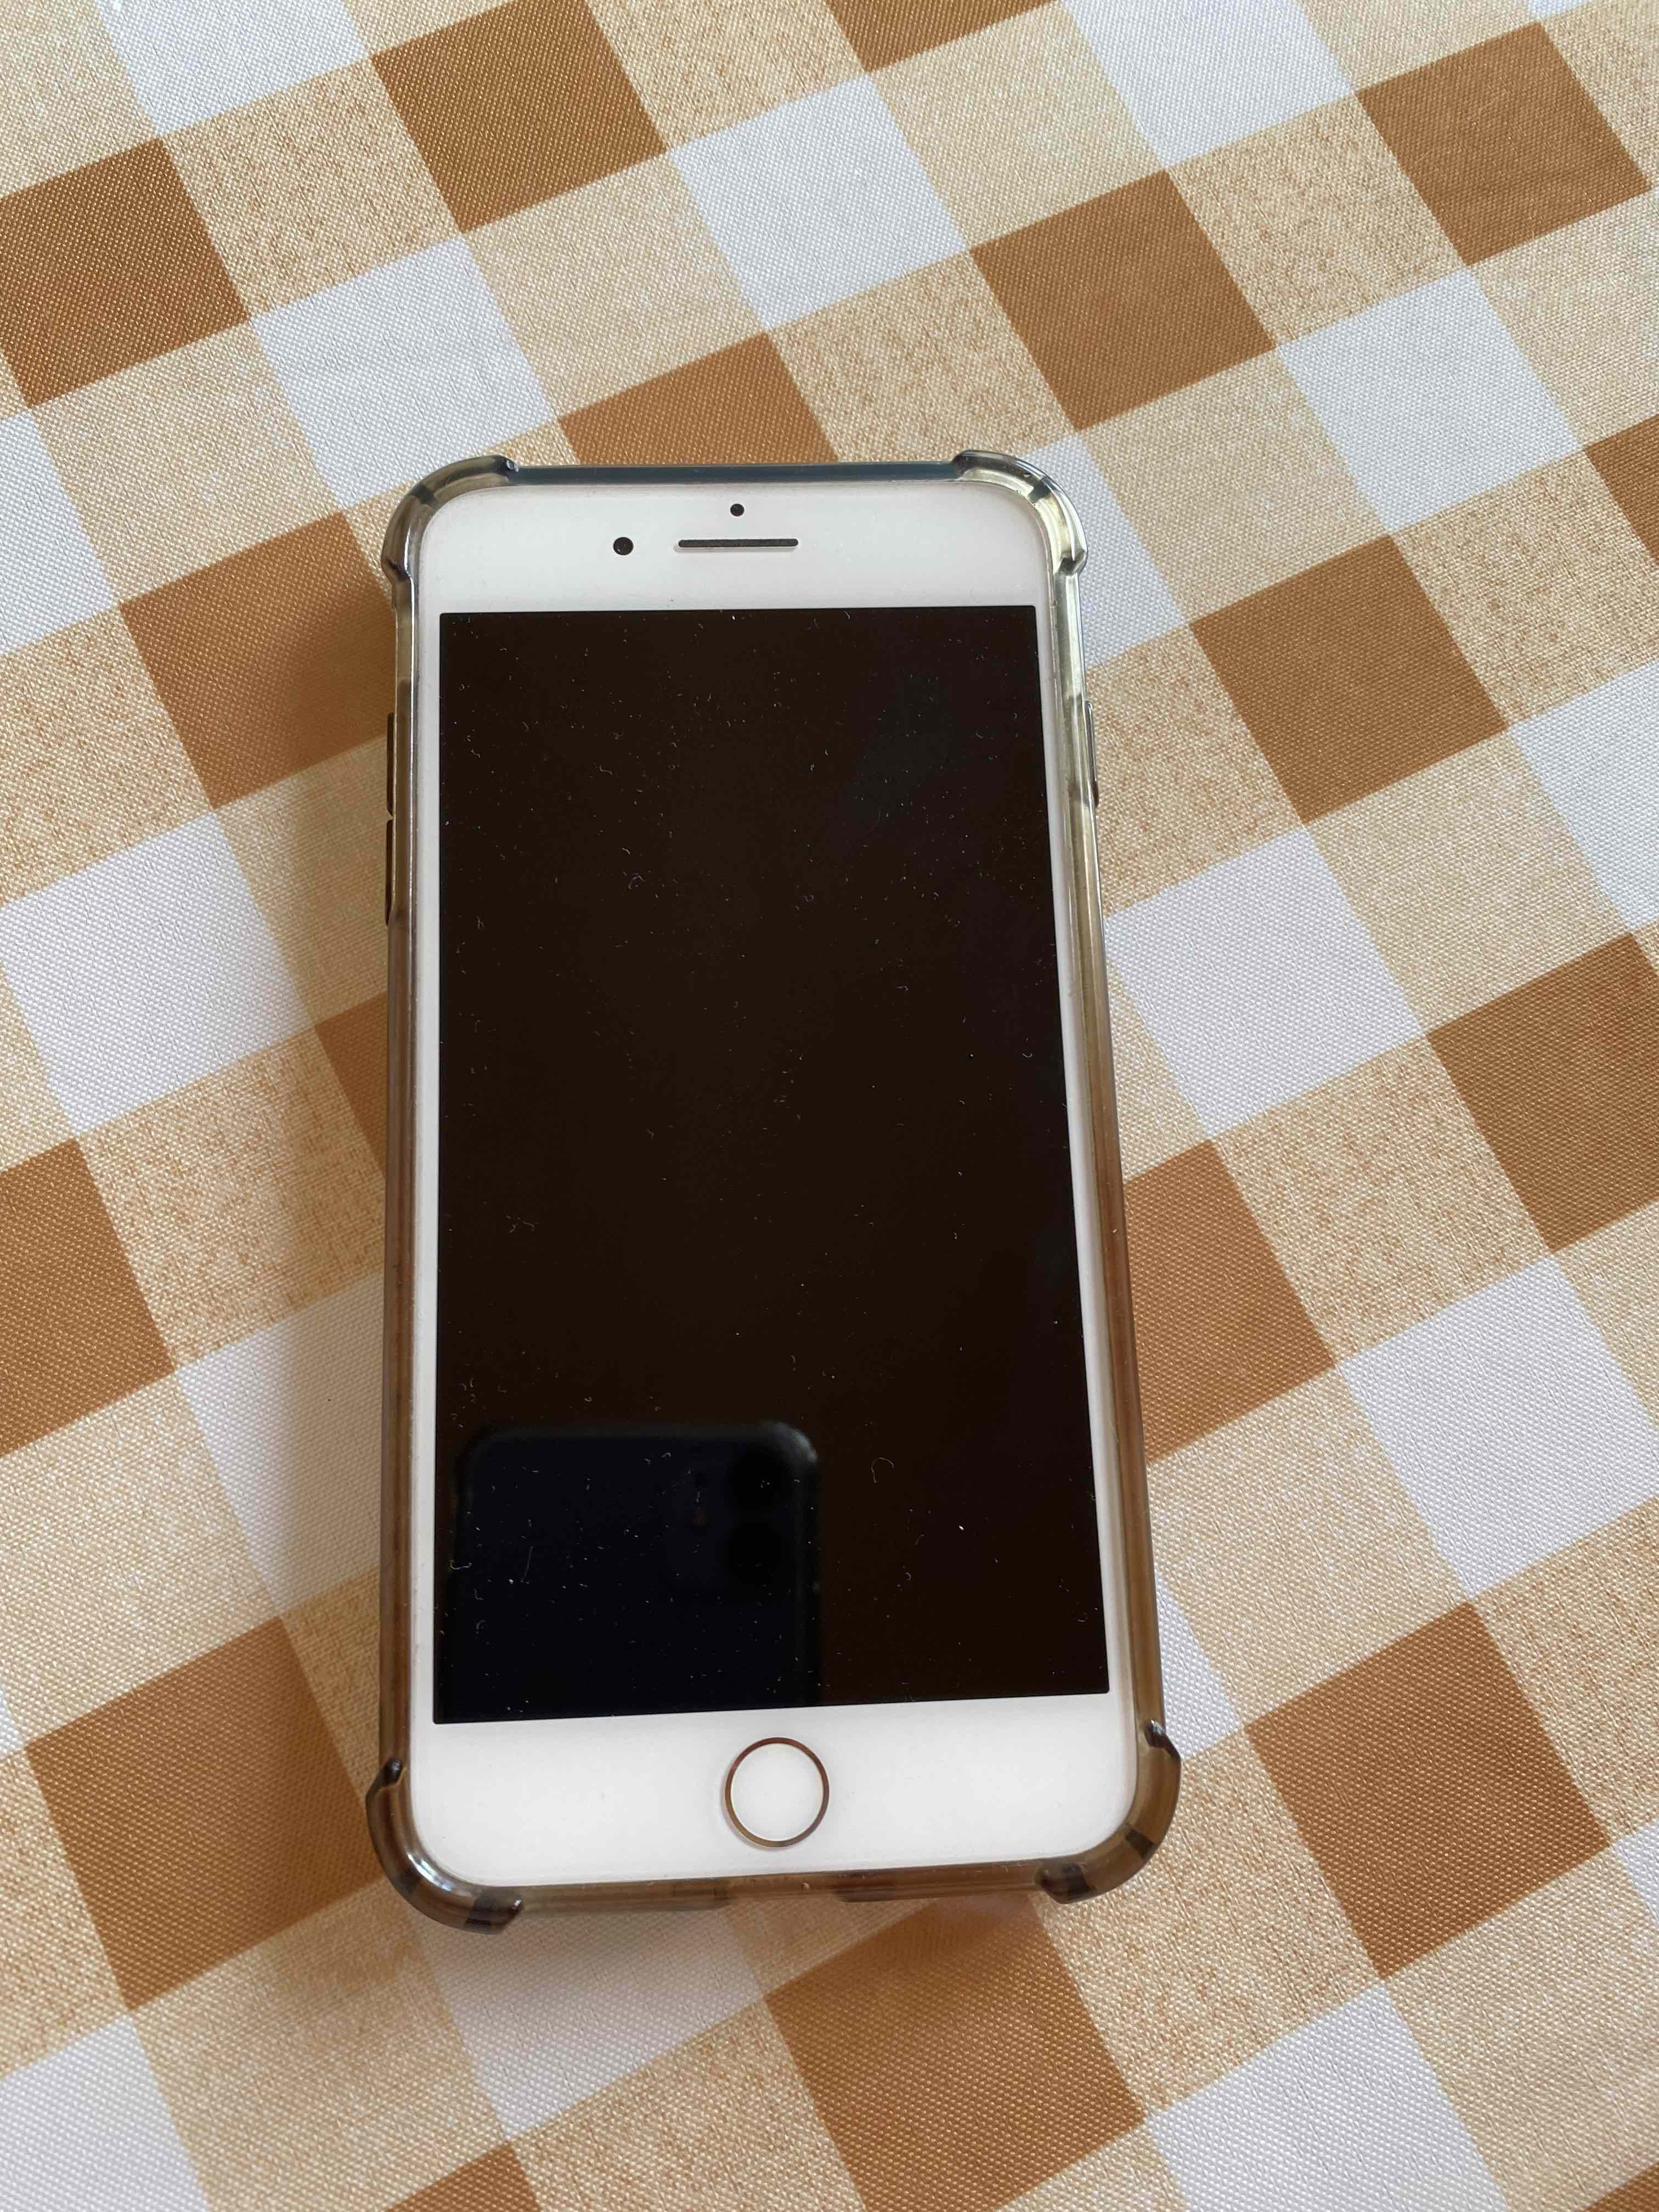Cell Phone: (385, 437, 1164, 1914)
